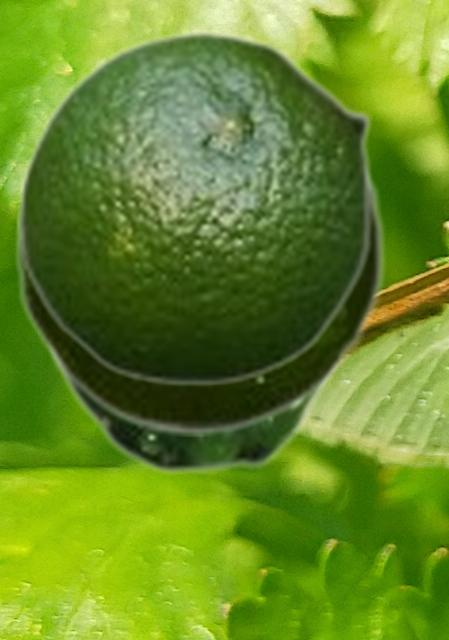calamansi: (17, 30, 374, 387), (12, 140, 387, 435), (45, 355, 346, 476)
